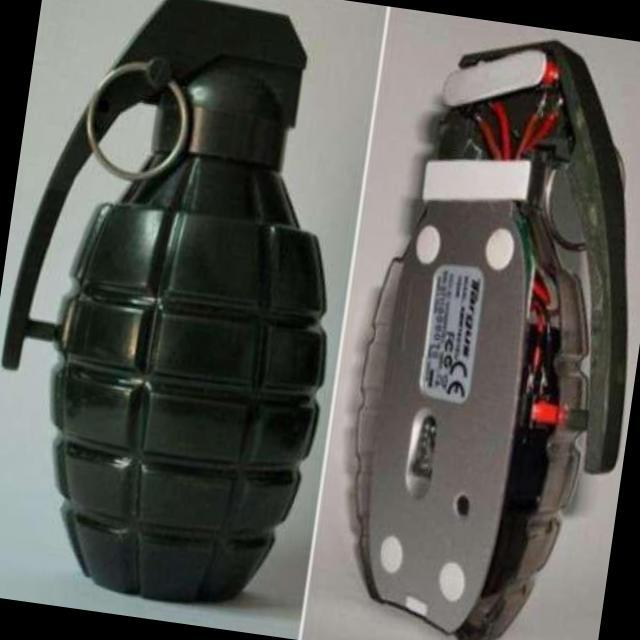grenade: (0, 0, 380, 622)
